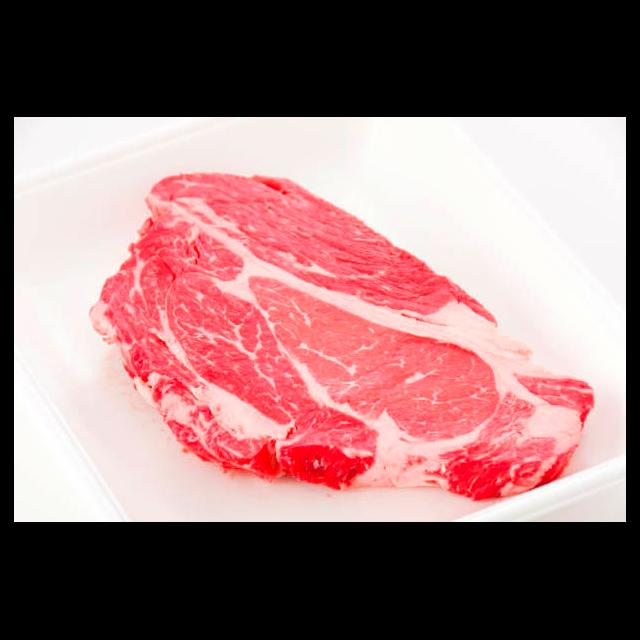beef: (89, 172, 595, 502)
